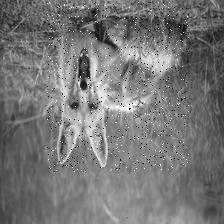fox: (47, 1, 189, 171)
